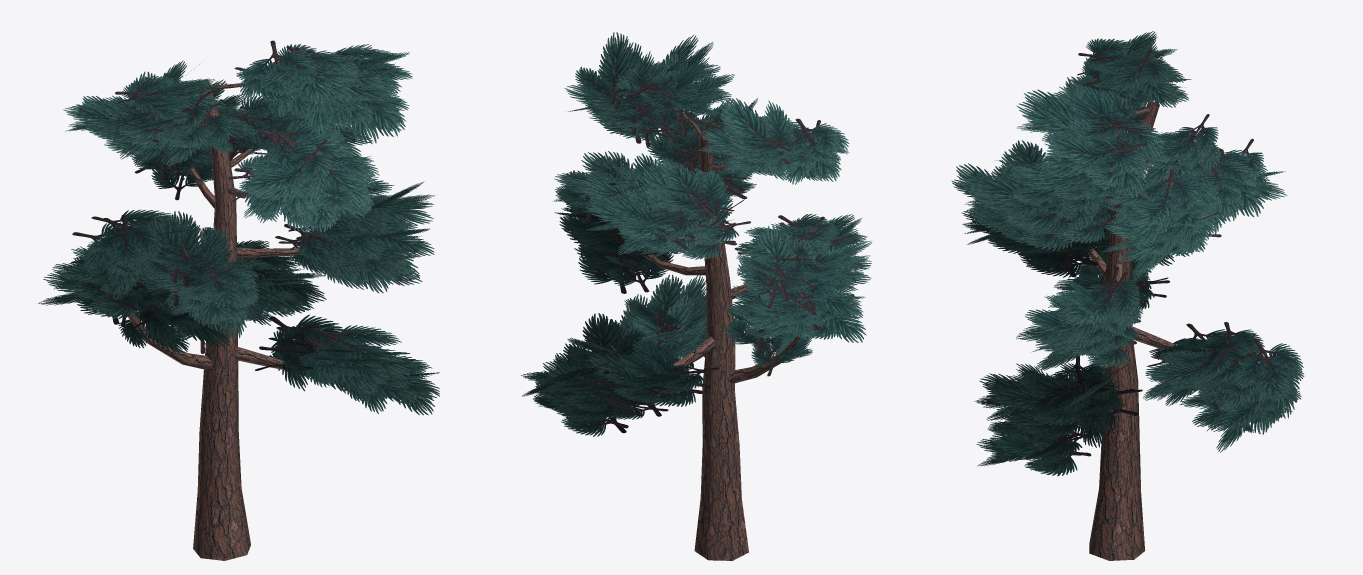
File: nature-blue-windswept-pine_v4.glb
The picture shows the model from 3 angles, left to right: view 1: azimuth 30°, elevation 25°; view 2: azimuth 150°, elevation 25°; view 3: azimuth 270°, elevation 25°; orthographic projection. The views are drawn at different scales.
Parts seen in each view (by area): view 1: nature-blue-windswept-pine; view 2: nature-blue-windswept-pine; view 3: nature-blue-windswept-pine.
Part boxes in pixels (x1=…): nature-blue-windswept-pine: x1=38, y1=40, x2=439, y2=560; nature-blue-windswept-pine: x1=521, y1=32, x2=872, y2=560; nature-blue-windswept-pine: x1=951, y1=31, x2=1304, y2=560.
Size of the model in its own units: 6 by 7.1 by 5.54.
2 materials, 2 textured.
